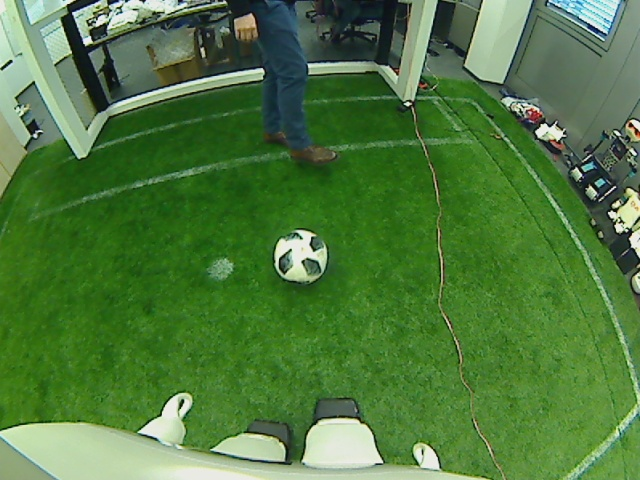ball: (271, 228, 328, 282)
